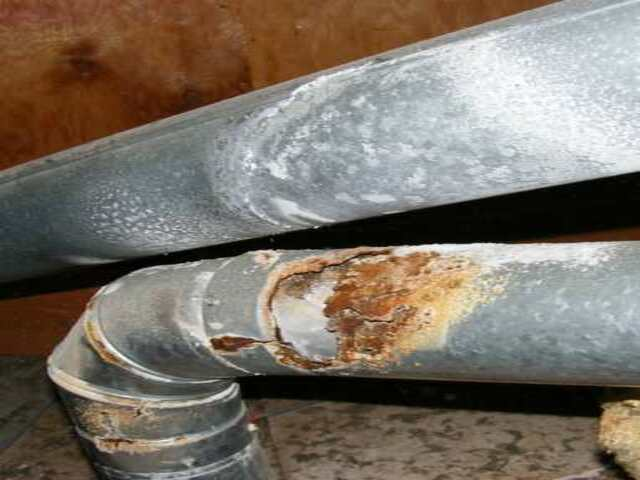Severe: (213, 249, 467, 379), (65, 305, 185, 460)
